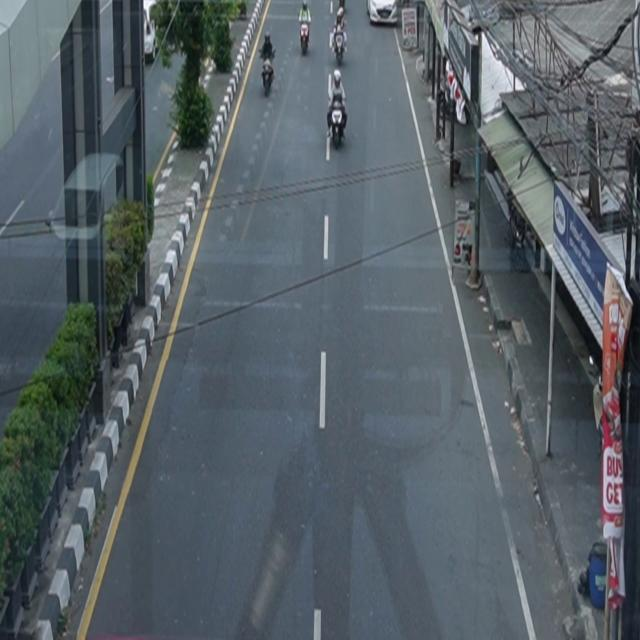car: (145, 2, 158, 63), (367, 1, 398, 26)
